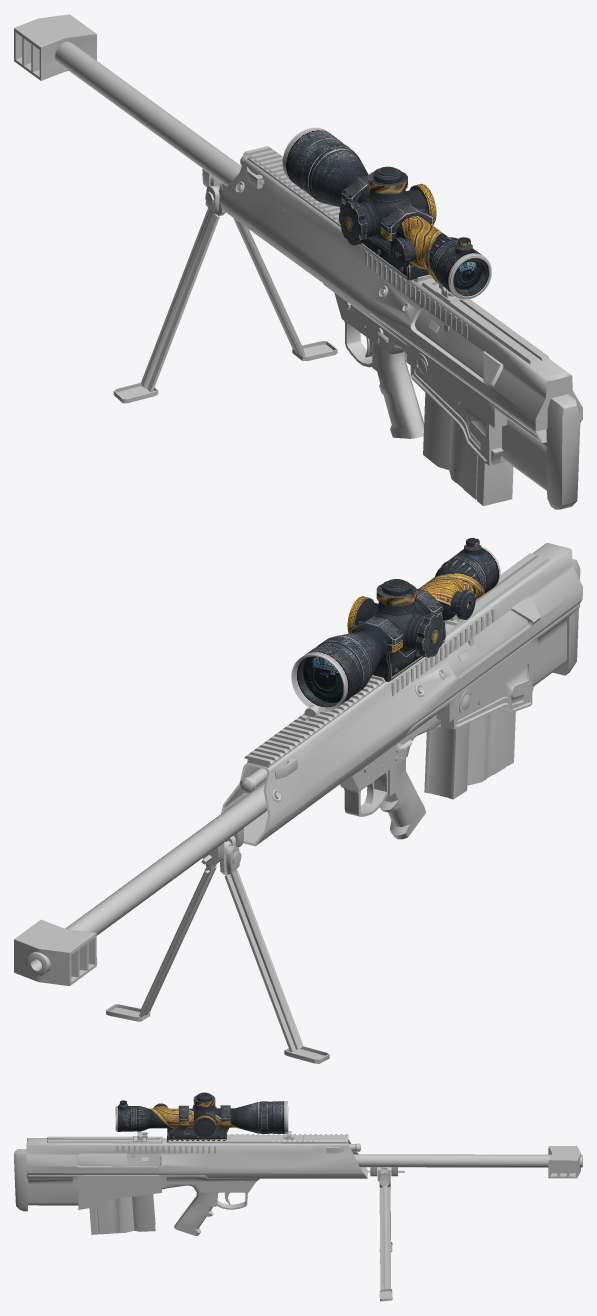
Rendered from sniper 1 with scope.fbx.
The picture shows the model from 3 angles, top to bottom: view 1: azimuth 30°, elevation 25°; view 2: azimuth 150°, elevation 25°; view 3: azimuth 270°, elevation 25°; orthographic projection. The views are drawn at different scales.
Parts seen in each view (by area): view 1: SATA_95, SATA_95_Scope, SATA_95_nosel; view 2: SATA_95, SATA_95_Scope, SATA_95_nosel; view 3: SATA_95, SATA_95_Scope, SATA_95_nosel.
Boxes of the visible parts, bbox=[...] form: SATA_95: bbox=[55, 41, 582, 509]; SATA_95_Scope: bbox=[282, 127, 491, 299]; SATA_95_nosel: bbox=[14, 14, 96, 80]; SATA_95: bbox=[26, 543, 582, 1063]; SATA_95_Scope: bbox=[291, 538, 500, 712]; SATA_95_nosel: bbox=[14, 919, 96, 986]; SATA_95: bbox=[14, 1131, 582, 1301]; SATA_95_Scope: bbox=[115, 1092, 288, 1141]; SATA_95_nosel: bbox=[548, 1146, 580, 1178].
Size of the model in its own units: 11.36 by 16.77 by 48.9.
